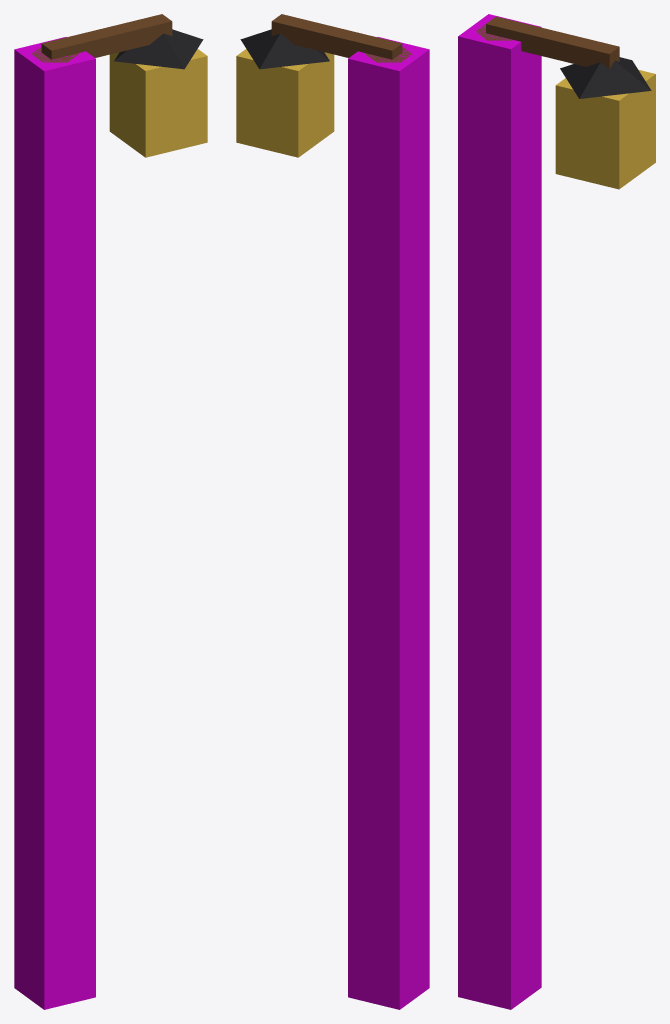
Rendered from lantern.glb.
The picture shows the model from 3 angles, left to right: view 1: azimuth 30°, elevation 25°; view 2: azimuth 150°, elevation 25°; view 3: azimuth 330°, elevation 25°; orthographic projection. The views are drawn at different scales.
Parts seen in each view (by area): view 1: COLP_lantern, lantern; view 2: COLP_lantern, lantern; view 3: COLP_lantern, lantern.
Part boxes in pixels (left/top/right/bottom): COLP_lantern: left=14, top=37, right=95, bottom=1009; lantern: left=32, top=14, right=207, bottom=157; COLP_lantern: left=348, top=37, right=429, bottom=1009; lantern: left=236, top=14, right=411, bottom=157; COLP_lantern: left=458, top=14, right=541, bottom=1009; lantern: left=476, top=16, right=655, bottom=189.
Size of the model in its own units: 0.505 by 2.62 by 0.26.
